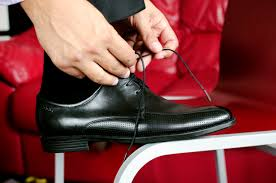shoe: (29, 71, 245, 155)
